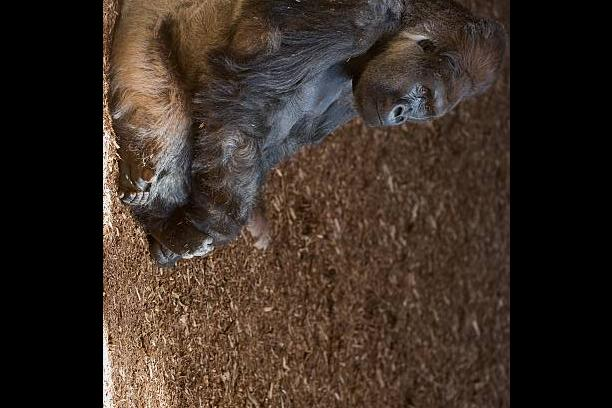gorille_Autres: (105, 0, 510, 284)
